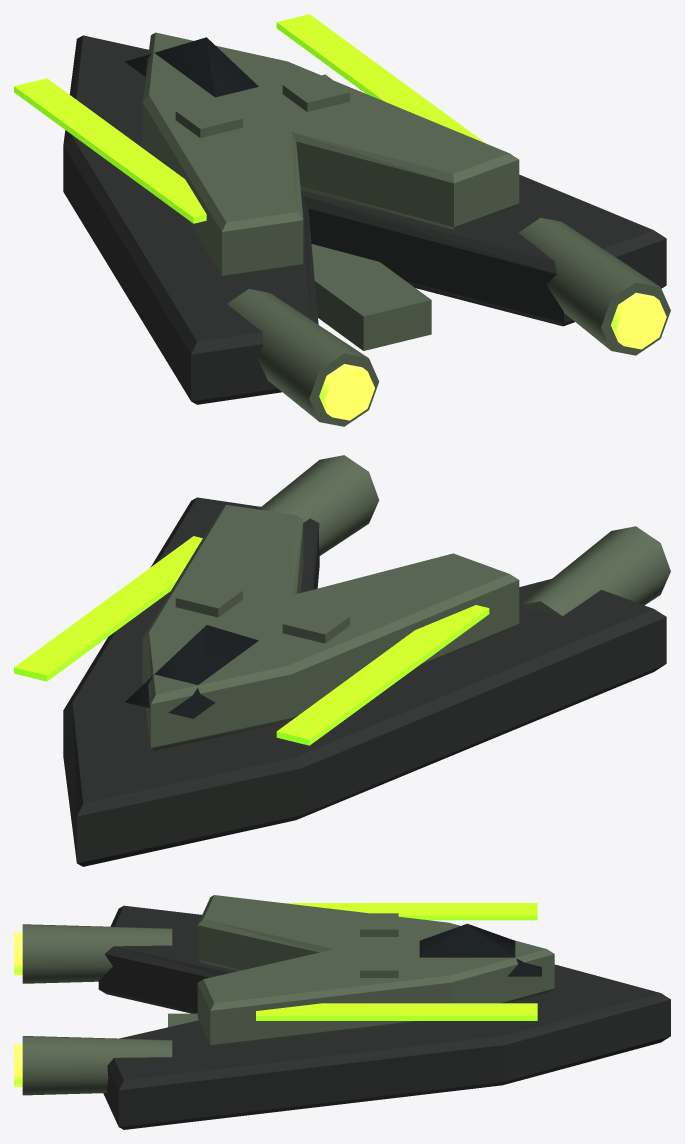
File: Corvette.glb
3 views of the same model, one above another, from view 1: azimuth 30°, elevation 25°; view 2: azimuth 150°, elevation 25°; view 3: azimuth 270°, elevation 25° (orthographic). The views are drawn at different scales.
Parts seen in each view (by area): view 1: corvette_hull, corvette_spine, corvette_engine_nacelle (×2), corvette_stripe (×2), corvette_keel, corvette_engine_bell (×2), corvette_turret (×2), corvette_bridge; view 2: corvette_hull, corvette_spine, corvette_engine_nacelle (×2), corvette_stripe (×2), corvette_bridge, corvette_turret (×2); view 3: corvette_hull, corvette_spine, corvette_engine_nacelle (×2), corvette_stripe (×2), corvette_bridge, corvette_turret (×2), corvette_engine_bell (×2).
Boxes of the visible parts, x1=… form: corvette_hull: x1=63, y1=35, x2=666, y2=404; corvette_spine: x1=142, y1=32, x2=519, y2=278; corvette_engine_nacelle (×2): x1=227, y1=217, x2=670, y2=426; corvette_stripe (×2): x1=14, y1=14, x2=485, y2=223; corvette_keel: x1=311, y1=244, x2=431, y2=350; corvette_engine_bell (×2): x1=319, y1=292, x2=666, y2=420; corvette_turret (×2): x1=175, y1=74, x2=349, y2=137; corvette_bridge: x1=125, y1=37, x2=258, y2=97; corvette_hull: x1=63, y1=497, x2=666, y2=866; corvette_spine: x1=142, y1=505, x2=519, y2=750; corvette_engine_nacelle (×2): x1=258, y1=455, x2=670, y2=616; corvette_stripe (×2): x1=14, y1=536, x2=489, y2=745; corvette_bridge: x1=125, y1=625, x2=258, y2=718; corvette_turret (×2): x1=175, y1=580, x2=349, y2=643; corvette_hull: x1=98, y1=905, x2=670, y2=1129; corvette_spine: x1=197, y1=895, x2=554, y2=1047; corvette_engine_nacelle (×2): x1=22, y1=924, x2=172, y2=1095; corvette_stripe (×2): x1=256, y1=903, x2=537, y2=1020; corvette_bridge: x1=419, y1=923, x2=541, y2=976; corvette_turret (×2): x1=360, y1=913, x2=398, y2=977; corvette_engine_bell (×2): x1=14, y1=932, x2=22, y2=1086.
Size of the model in its own units: 17.19 by 5.73 by 26.22.
